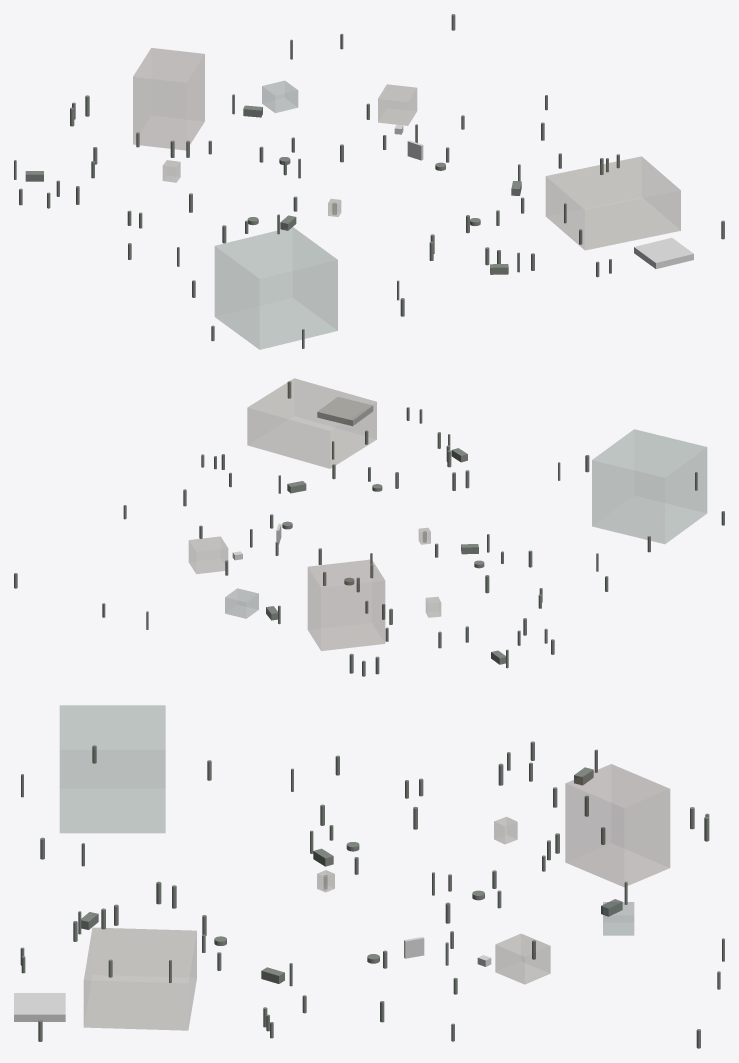
The model's file is colliders.glb.
3 views of the same model, one above another, from view 1: azimuth 30°, elevation 25°; view 2: azimuth 150°, elevation 25°; view 3: azimuth 270°, elevation 25° (orthographic). The views are drawn at different scales.
Visible parts, largest first — view 1: sectionFootprint_skills, sectionFootprint_projects, sectionFootprint_contact, structureFootprint_cabin, miscFootprint_pool, sectionFootprint_experience; view 2: sectionFootprint_skills, sectionFootprint_projects, sectionFootprint_contact, structureFootprint_cabin, miscFootprint_pool, sectionFootprint_experience; view 3: sectionFootprint_skills, sectionFootprint_projects, sectionFootprint_contact, structureFootprint_cabin, miscFootprint_pool, sectionFootprint_experience, structureFootprint_outhouse.
Boxes of the visible parts, x1,y1,x2,y2 form: sectionFootprint_skills: (215, 227, 337, 349); sectionFootprint_projects: (546, 156, 680, 250); sectionFootprint_contact: (133, 48, 204, 150); structureFootprint_cabin: (378, 84, 416, 125); miscFootprint_pool: (634, 237, 693, 268); sectionFootprint_experience: (262, 81, 297, 112); sectionFootprint_skills: (592, 429, 706, 543); sectionFootprint_projects: (247, 378, 376, 468); sectionFootprint_contact: (308, 559, 384, 650); structureFootprint_cabin: (189, 536, 227, 573); miscFootprint_pool: (317, 397, 373, 425); sectionFootprint_experience: (225, 588, 258, 618); sectionFootprint_skills: (60, 705, 165, 832); sectionFootprint_projects: (84, 928, 196, 1030); sectionFootprint_contact: (565, 764, 669, 886); structureFootprint_cabin: (495, 934, 550, 984); miscFootprint_pool: (14, 993, 65, 1021); sectionFootprint_experience: (603, 902, 633, 935); structureFootprint_outhouse: (494, 817, 517, 843).
Bounding box in the file's own units: 97.06 × 13.57 × 101.
